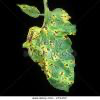Tomato Septoria leaf spot: (24, 19, 78, 92)
